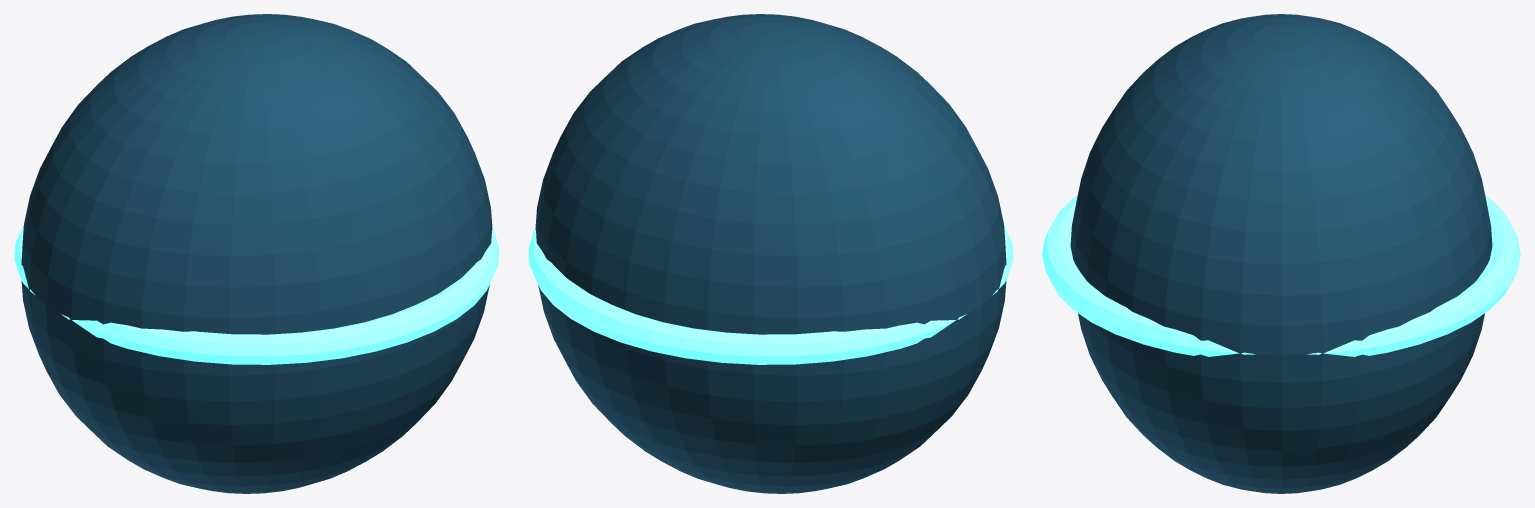
Rendered from powerup_orb.glb.
3 views of the same model, side by side, from view 1: azimuth 30°, elevation 25°; view 2: azimuth 150°, elevation 25°; view 3: azimuth 270°, elevation 25° (orthographic).
Visible parts, largest first — view 1: Shell, Ring_V; view 2: Shell, Ring_V; view 3: Shell, Ring_V.
Boxes of the visible parts, x1,y1,x2,y2 form: Shell: (21,14,492,493); Ring_V: (14,224,499,364); Shell: (535,14,1006,493); Ring_V: (528,224,1013,364); Shell: (1070,14,1492,493); Ring_V: (1042,195,1520,356).
Bounding box in the file's own units: 0.6 × 0.6 × 0.598.
